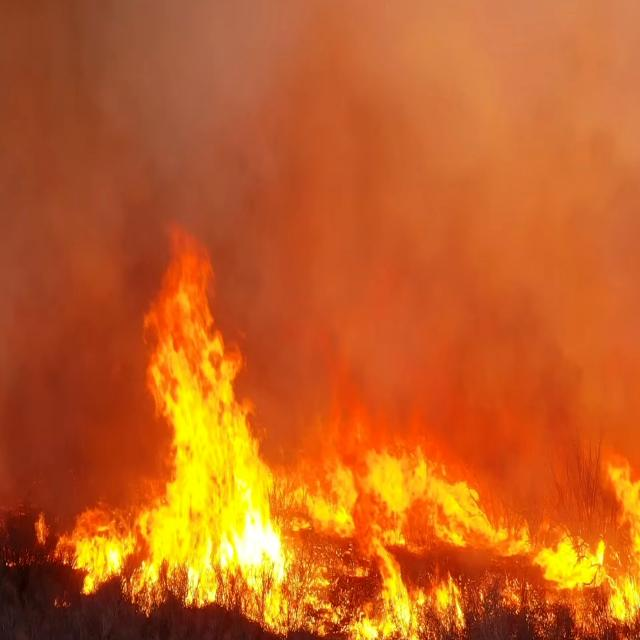fire: (92, 256, 282, 634), (263, 406, 568, 640)
